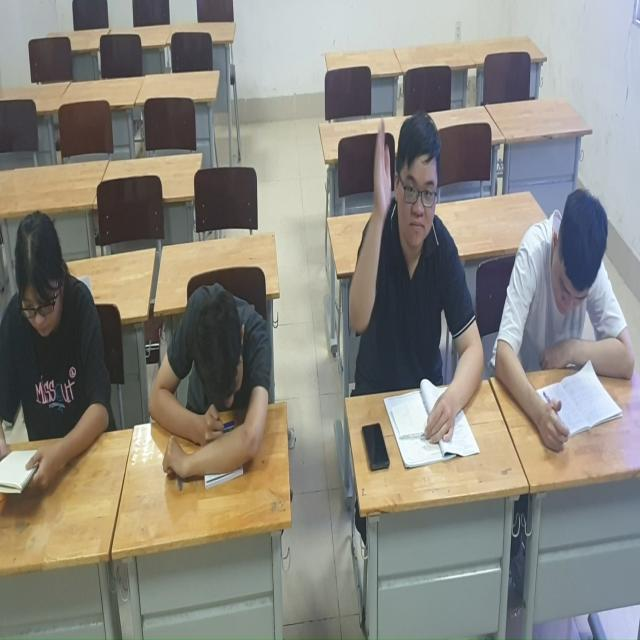raise_hand: (342, 114, 486, 445)
read: (486, 156, 636, 461), (1, 204, 128, 502)
sleep: (137, 266, 287, 496)
